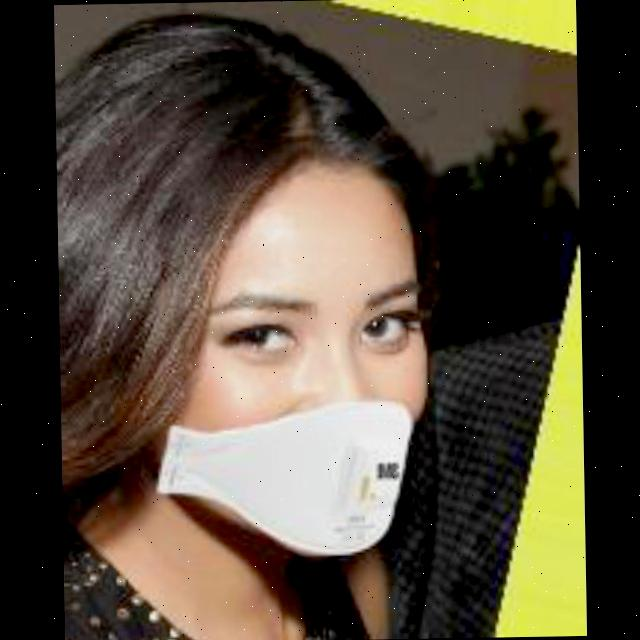suspicion: (60, 145, 426, 600)
